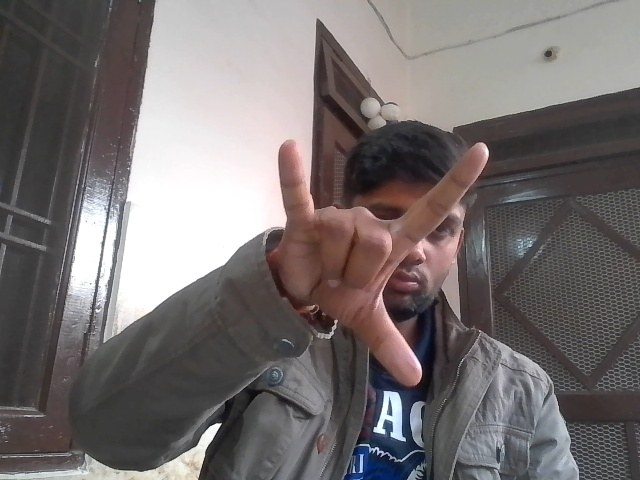ILoveYou: (254, 118, 524, 401)
